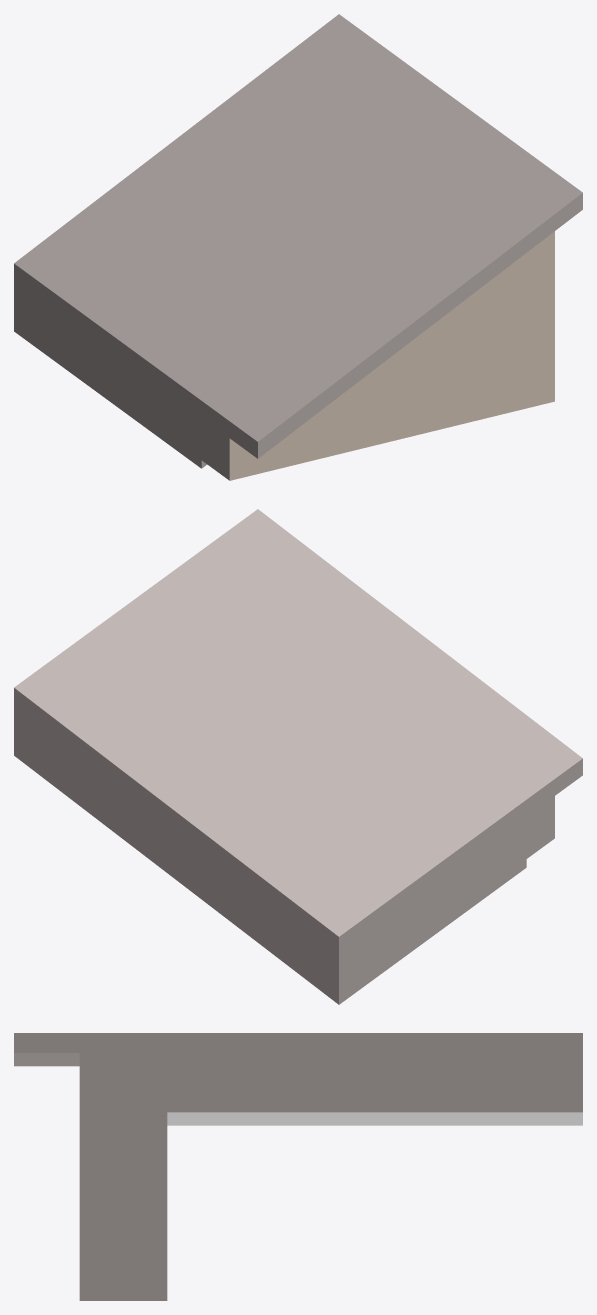
Rendered from Structure_Roof_Edge_Half.fbx.
3 views of the same model, one above another, from view 1: azimuth 30°, elevation 25°; view 2: azimuth 150°, elevation 25°; view 3: azimuth 270°, elevation 25° (orthographic). The views are drawn at different scales.
Parts seen in each view (by area): view 1: object1.100; view 2: object1.100; view 3: object1.100.
Part boxes in pixels (box(x1,y1,x2,y2)): object1.100: box(14, 14, 582, 480); object1.100: box(14, 509, 582, 1004); object1.100: box(14, 1033, 582, 1300).
Size of the model in its own units: 100 by 70 by 130.
